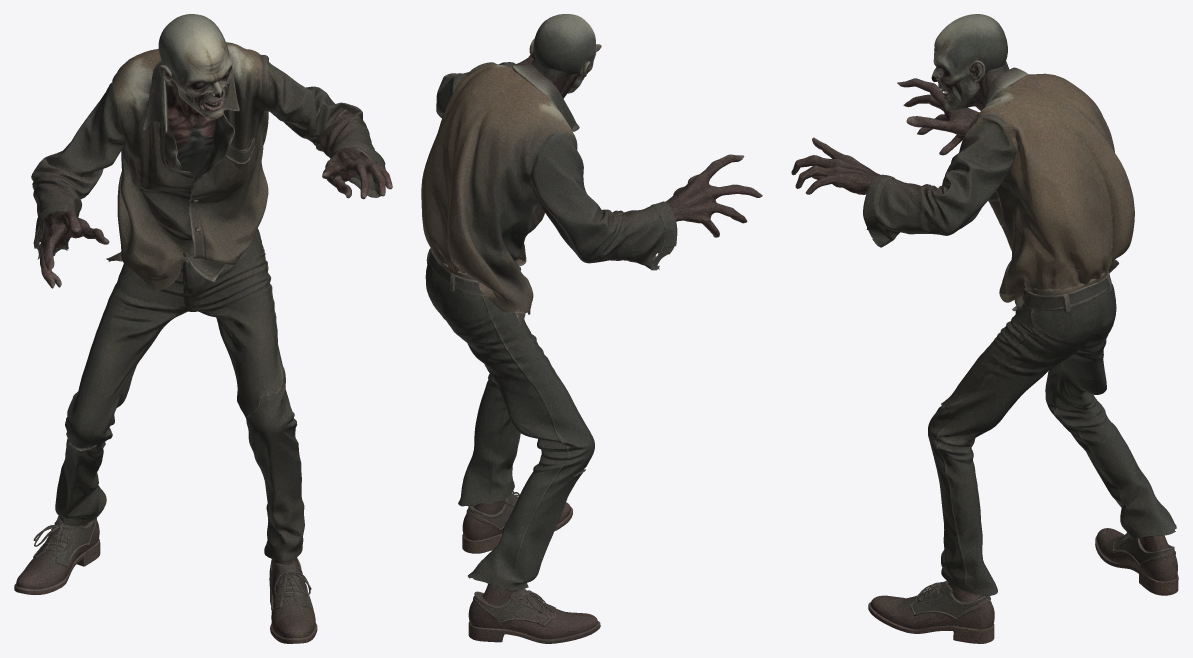
File: zombie-meshy.4490ac01.glb
The picture shows the model from 3 angles, left to right: view 1: azimuth 30°, elevation 25°; view 2: azimuth 150°, elevation 25°; view 3: azimuth 270°, elevation 25°; orthographic projection. The views are drawn at different scales.
Size of the model in its own units: 1.1 by 1.9 by 1.16.
1 material, 1 textured.
